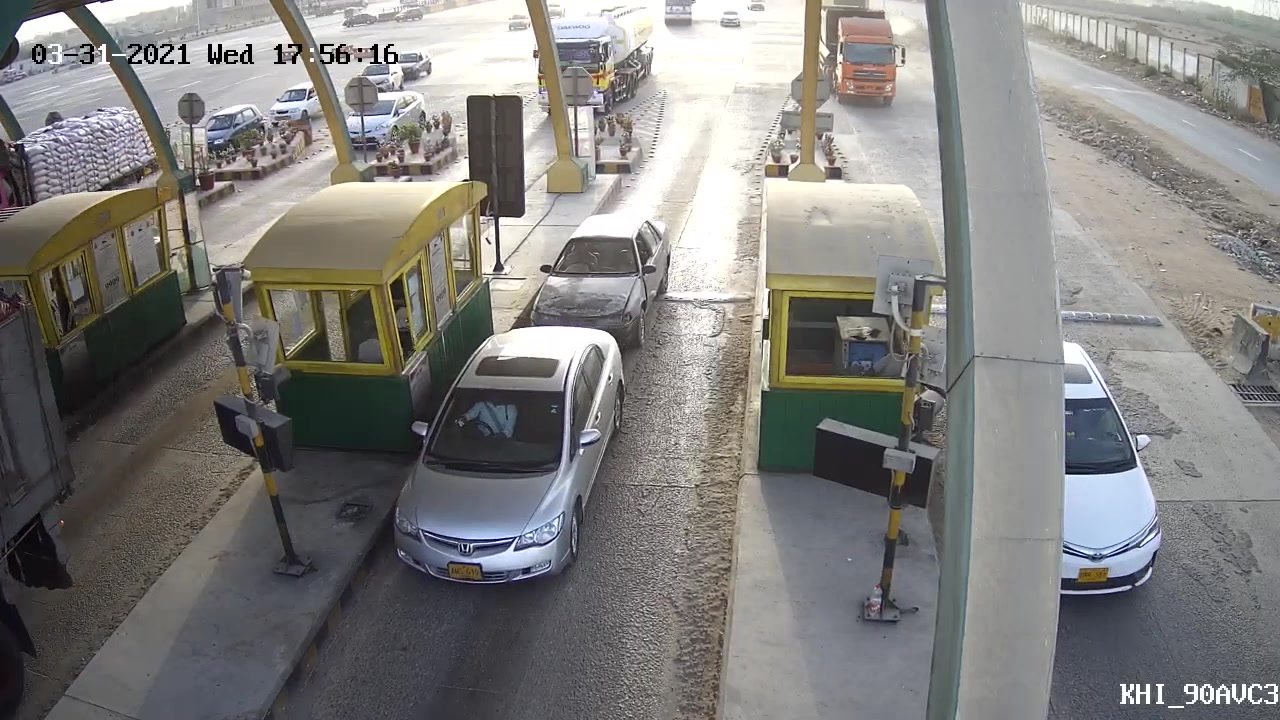F1: (387, 323, 630, 591)
